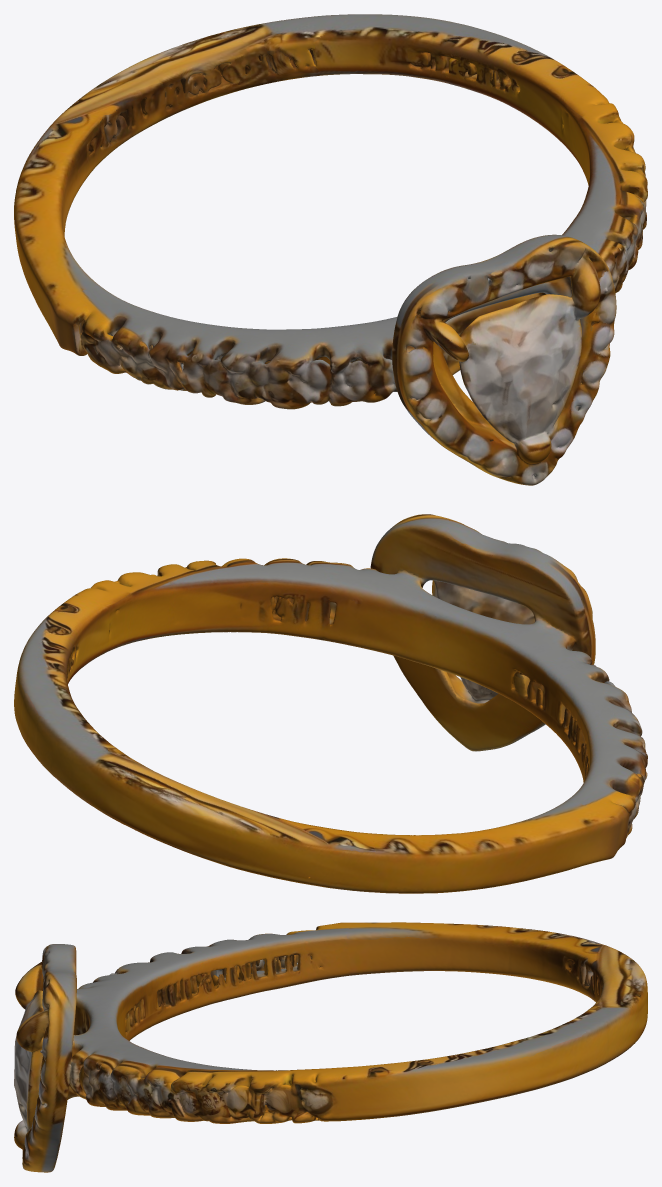
Rendered from ring.glb.
The picture shows the model from 3 angles, top to bottom: view 1: azimuth 30°, elevation 25°; view 2: azimuth 150°, elevation 25°; view 3: azimuth 270°, elevation 25°; orthographic projection. The views are drawn at different scales.
Parts seen in each view (by area): view 1: tripo_node_b5273a18-31ba-4301-97b1-4d0633587f0f; view 2: tripo_node_b5273a18-31ba-4301-97b1-4d0633587f0f; view 3: tripo_node_b5273a18-31ba-4301-97b1-4d0633587f0f.
Boxes of the visible parts, <box> form: tripo_node_b5273a18-31ba-4301-97b1-4d0633587f0f: <box>14,14,647,485</box>; tripo_node_b5273a18-31ba-4301-97b1-4d0633587f0f: <box>14,514,647,893</box>; tripo_node_b5273a18-31ba-4301-97b1-4d0633587f0f: <box>14,922,647,1172</box>.
Size of the model in its own units: 0.8999 by 0.3574 by 1.
Materials: 1 (1 with a texture image).
